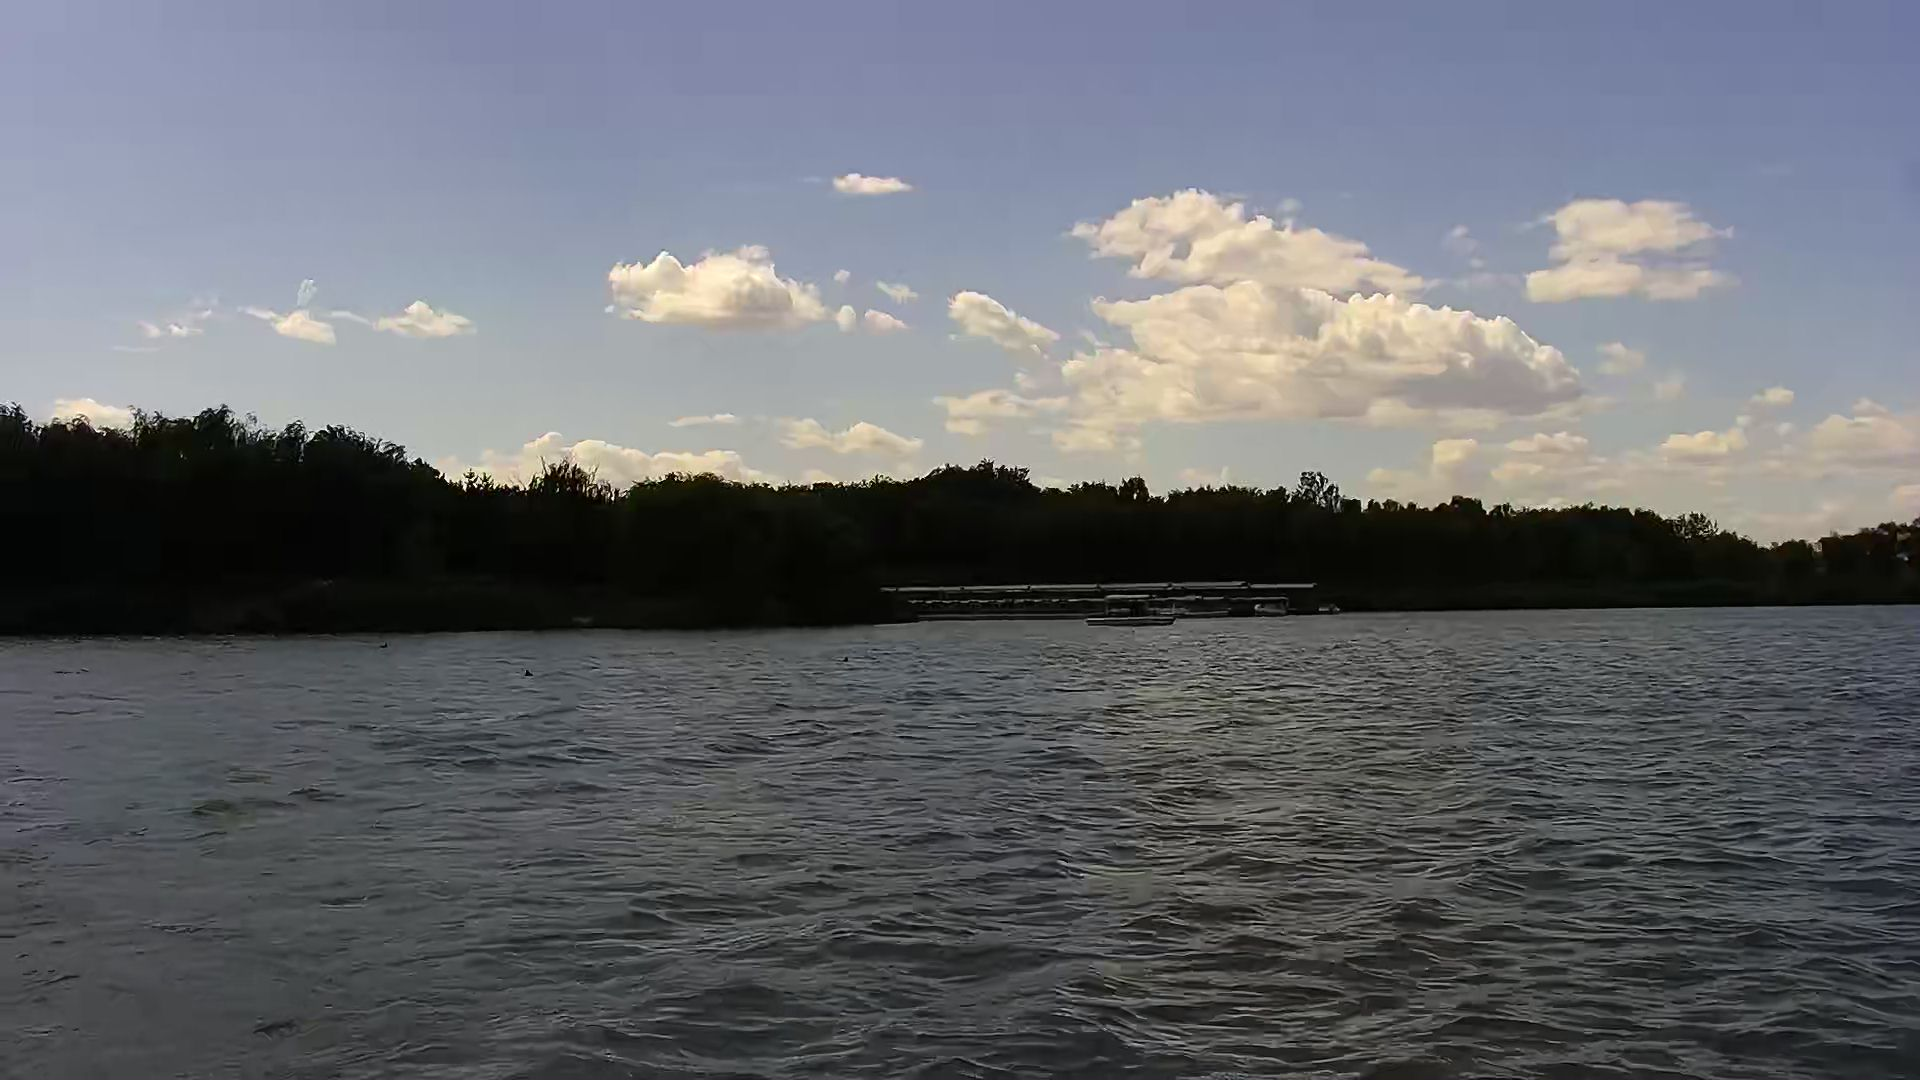boat: (1079, 591, 1182, 632)
harbor: (882, 582, 1338, 622)
